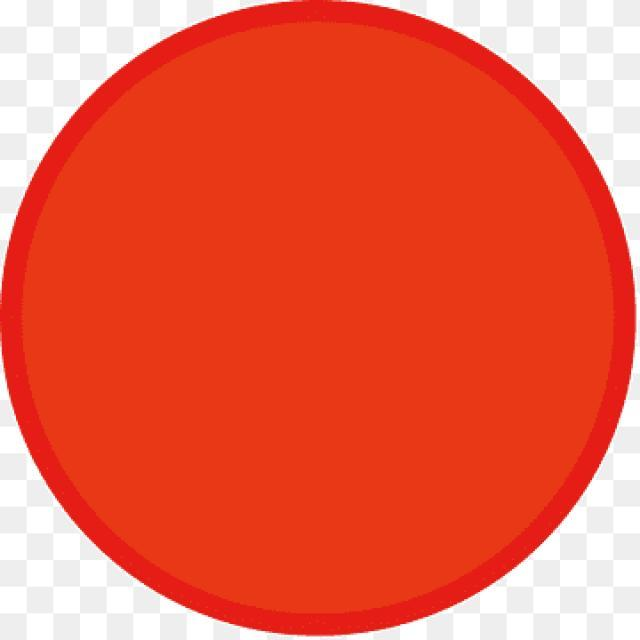Circle: (0, 0, 640, 636)
